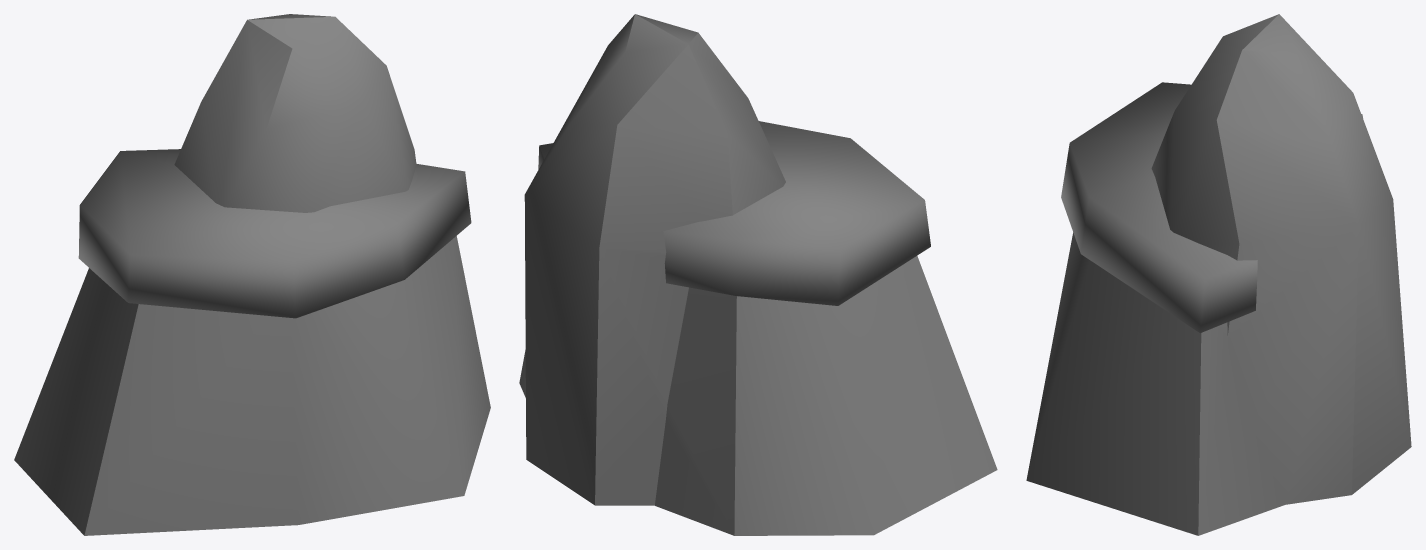
The model's file is rocks_snow_C_lavender.fbx.
3 views of the same model, side by side, from view 1: azimuth 30°, elevation 25°; view 2: azimuth 150°, elevation 25°; view 3: azimuth 270°, elevation 25° (orthographic). The views are drawn at different scales.
Visible parts, largest first — view 1: rocks_snow_C_lavender; view 2: rocks_snow_C_lavender; view 3: rocks_snow_C_lavender.
Part boxes in pixels (left/top/right/bottom): rocks_snow_C_lavender: left=14, top=14, right=490, bottom=535; rocks_snow_C_lavender: left=519, top=14, right=997, bottom=535; rocks_snow_C_lavender: left=1026, top=14, right=1411, bottom=535.
Size of the model in its own units: 1.84 by 1.65 by 1.37.
